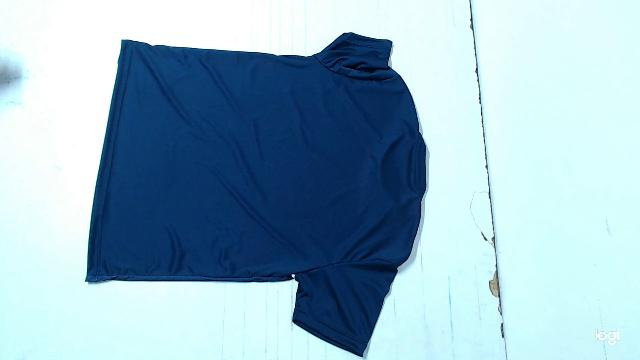new-garment: (86, 33, 426, 356)
